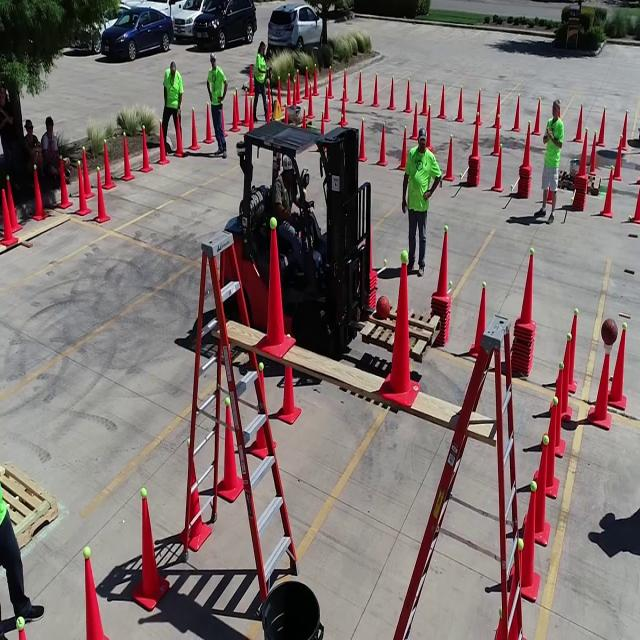Chariot elevateur: (213, 111, 383, 361)
